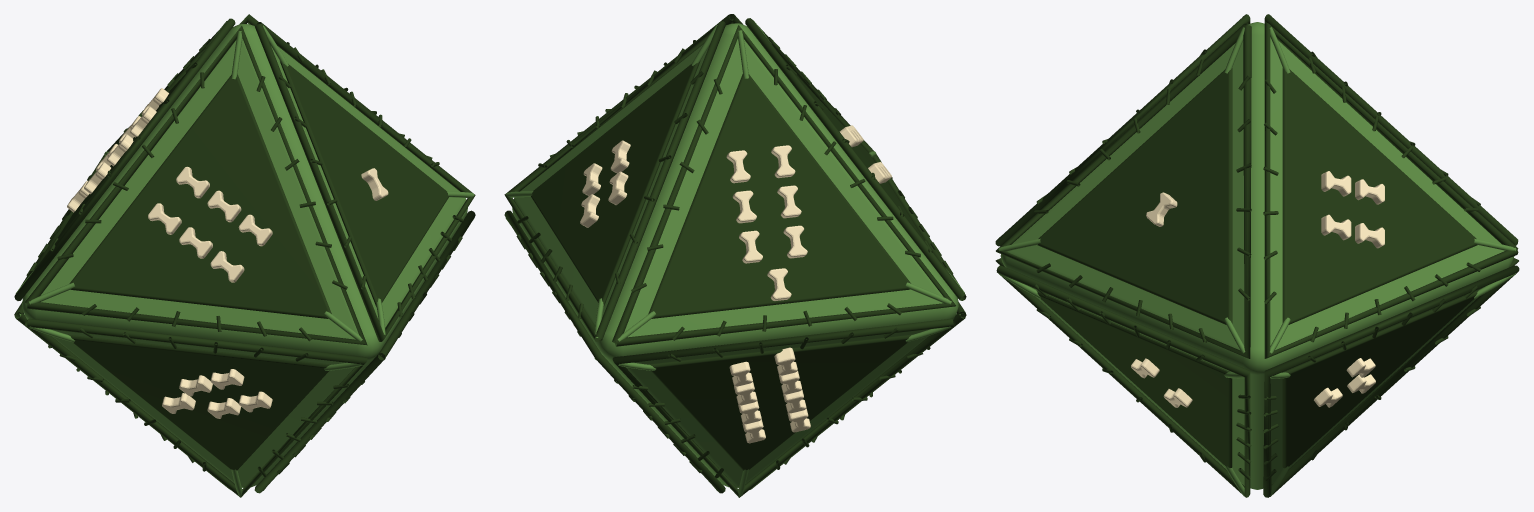
The picture shows the model from 3 angles, left to right: view 1: azimuth 30°, elevation 25°; view 2: azimuth 150°, elevation 25°; view 3: azimuth 270°, elevation 25°; orthographic projection.
Parts seen in each view (by area): view 1: Monster Dungeon d8 canonical sculpture; view 2: Monster Dungeon d8 canonical sculpture; view 3: Monster Dungeon d8 canonical sculpture.
Boxes of the visible parts, x1,y1,x2,y2 form: Monster Dungeon d8 canonical sculpture: (14, 14, 475, 497); Monster Dungeon d8 canonical sculpture: (504, 14, 966, 497); Monster Dungeon d8 canonical sculpture: (995, 14, 1519, 497).
Bounding box in the file's own units: 1.92 × 1.92 × 1.92.
